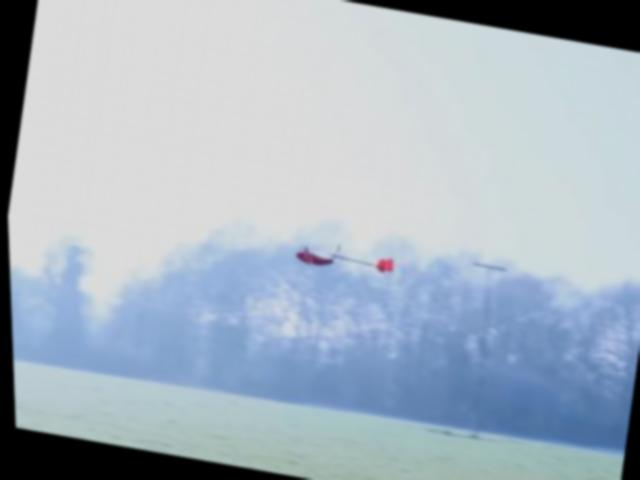uav: (288, 236, 399, 282)
